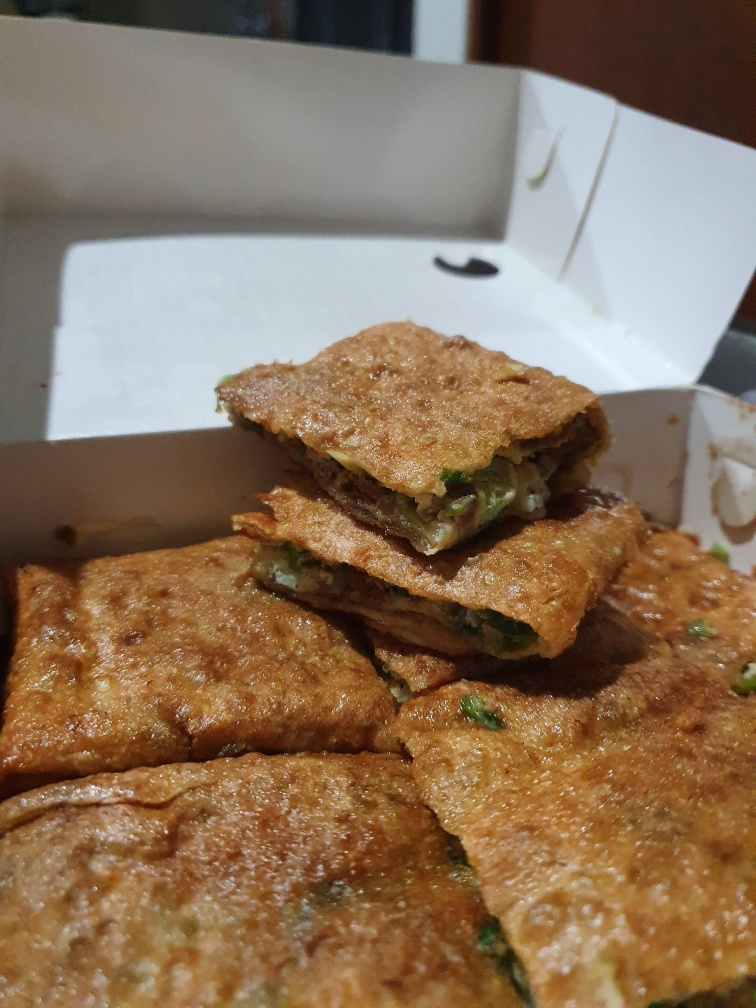martabak telor: (395, 622, 756, 996), (37, 732, 525, 1007), (1, 507, 404, 767), (241, 444, 639, 655), (222, 304, 609, 519)
